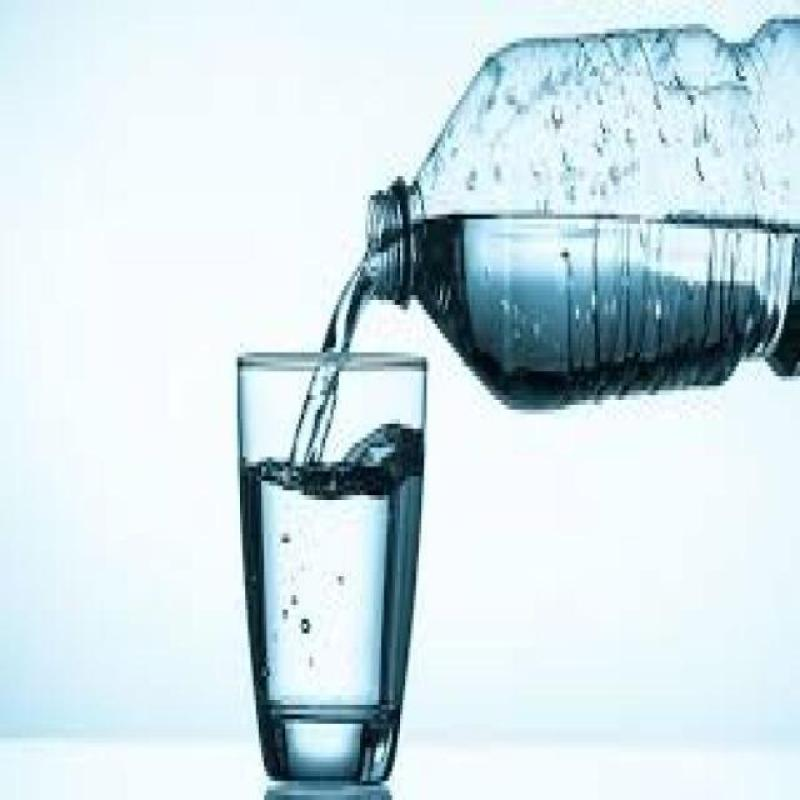botella: (370, 14, 800, 414)
